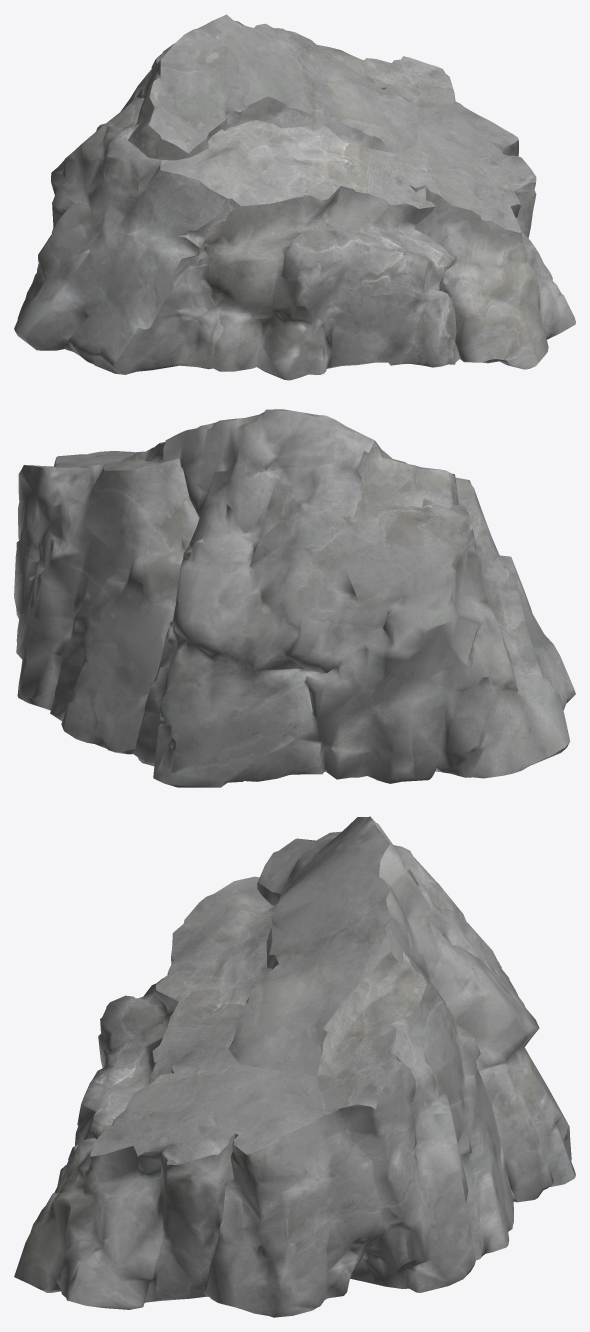
Rendered from SM_Com_Roc_83AM.fbx.
3 views of the same model, one above another, from view 1: azimuth 30°, elevation 25°; view 2: azimuth 150°, elevation 25°; view 3: azimuth 270°, elevation 25° (orthographic). The views are drawn at different scales.
Parts seen in each view (by area): view 1: SM_Com_Roc_83AM.mo; view 2: SM_Com_Roc_83AM.mo; view 3: SM_Com_Roc_83AM.mo.
Boxes of the visible parts, x1=… form: SM_Com_Roc_83AM.mo: x1=14, y1=14, x2=575, y2=380; SM_Com_Roc_83AM.mo: x1=14, y1=409, x2=575, y2=787; SM_Com_Roc_83AM.mo: x1=14, y1=816, x2=575, y2=1317.
Size of the model in its own units: 227 by 129 by 189.
